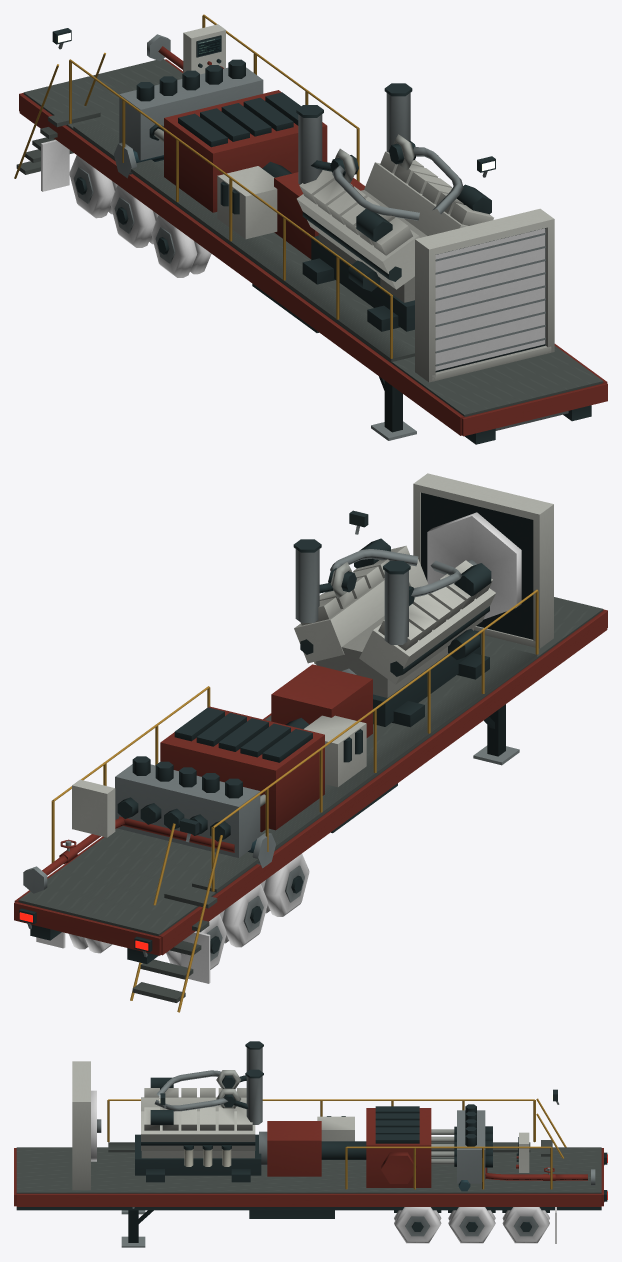
The model's file is frac_pump_truck_single_lodL.glb.
The picture shows the model from 3 angles, top to bottom: view 1: azimuth 30°, elevation 25°; view 2: azimuth 150°, elevation 25°; view 3: azimuth 270°, elevation 25°; orthographic projection. The views are drawn at different scales.
Visible parts, largest first — view 1: trailer_chassis_deck, trailer_chassis_oxide, radiator_rubber, engine_castings_ivory, radiator_ivory, service_walkway_deck, pump_power_end_oxide, pump_fluid_end_steel, running_gear_rubber, pump_power_end_dark, engine_castings_dark, handrails_yellow (+16 smaller); view 2: trailer_chassis_deck, engine_castings_ivory, trailer_chassis_oxide, pump_power_end_oxide, service_walkway_deck, radiator_ivory, pump_fluid_end_steel, radiator_rubber, radiator_dark, transmission_oxide, pump_power_end_dark, engine_castings_dark (+15 smaller); view 3: trailer_chassis_deck, trailer_chassis_oxide, engine_castings_ivory, pump_power_end_oxide, running_gear_rubber, transmission_oxide, engine_castings_dark, radiator_ivory, handrails_yellow, trailer_chassis_dark, pump_power_end_dark, pump_fluid_end_steel (+19 smaller).
Part boxes in pixels (<box>): trailer_chassis_deck: <box>23,59,603,416</box>; trailer_chassis_oxide: <box>19,59,607,436</box>; radiator_rubber: <box>435,228,545,370</box>; engine_castings_ivory: <box>297,151,493,302</box>; radiator_ivory: <box>415,208,554,382</box>; service_walkway_deck: <box>73,120,414,362</box>; pump_power_end_oxide: <box>164,90,327,212</box>; pump_fluid_end_steel: <box>119,67,263,160</box>; running_gear_rubber: <box>69,155,211,277</box>; pump_power_end_dark: <box>178,92,300,147</box>; engine_castings_dark: <box>302,211,414,331</box>; handrails_yellow: <box>69,14,392,358</box>; trailer_chassis_deck: <box>18,597,603,935</box>; engine_castings_ivory: <box>294,545,495,697</box>; trailer_chassis_oxide: <box>14,609,607,955</box>; pump_power_end_oxide: <box>160,706,324,832</box>; service_walkway_deck: <box>192,649,537,892</box>; radiator_ivory: <box>413,473,553,648</box>; pump_fluid_end_steel: <box>115,764,260,857</box>; radiator_rubber: <box>427,512,521,619</box>; radiator_dark: <box>421,492,533,639</box>; transmission_oxide: <box>271,664,372,737</box>; pump_power_end_dark: <box>174,707,312,762</box>; engine_castings_dark: <box>300,606,489,727</box>; trailer_chassis_deck: <box>16,1147,601,1193</box>; trailer_chassis_oxide: <box>14,1148,603,1206</box>; engine_castings_ivory: <box>141,1088,255,1158</box>; pump_power_end_oxide: <box>366,1108,431,1187</box>; running_gear_rubber: <box>394,1207,549,1243</box>; transmission_oxide: <box>267,1121,321,1176</box>; engine_castings_dark: <box>135,1134,261,1182</box>; radiator_ivory: <box>72,1061,90,1190</box>; handrails_yellow: <box>107,1099,552,1189</box>; trailer_chassis_dark: <box>16,1207,601,1210</box>; pump_power_end_dark: <box>375,1106,419,1143</box>; pump_fluid_end_steel: <box>457,1110,485,1183</box>.
Bounding box in the file's own units: 3.14 × 4.43 × 14.21.
Materials: 13 (13 with a texture image).
